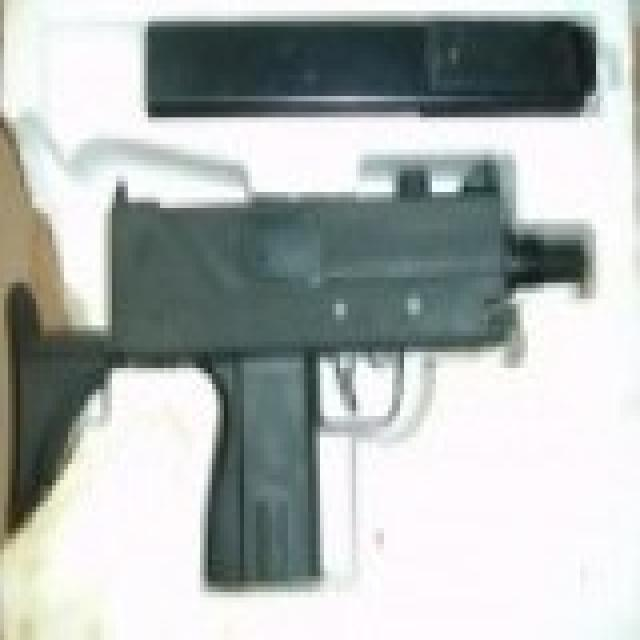Gun: (19, 140, 604, 583)
